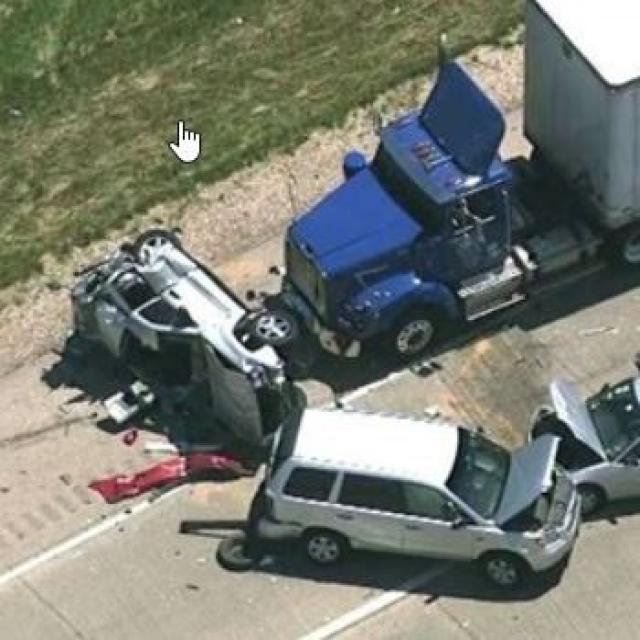traffic_incident: (75, 202, 285, 480), (243, 421, 585, 581), (499, 371, 638, 517)
